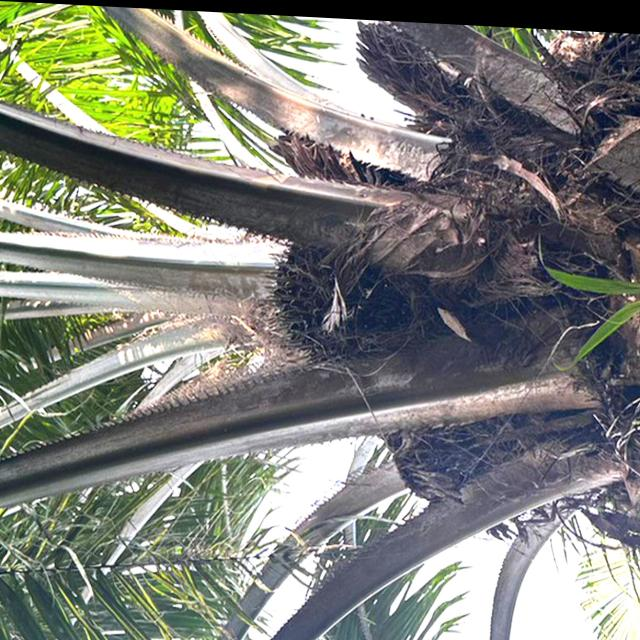ripe: (256, 234, 424, 380)
